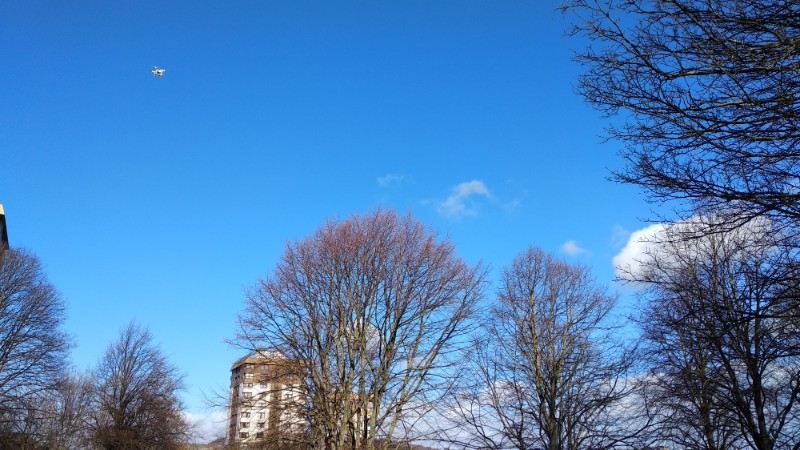drone: (150, 66, 168, 78)
